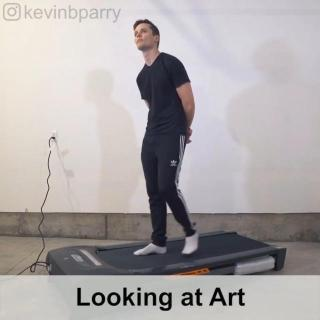person - v3 P: (118, 12, 214, 254)
